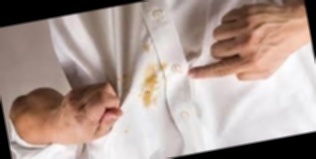coffee: (137, 64, 166, 110)
